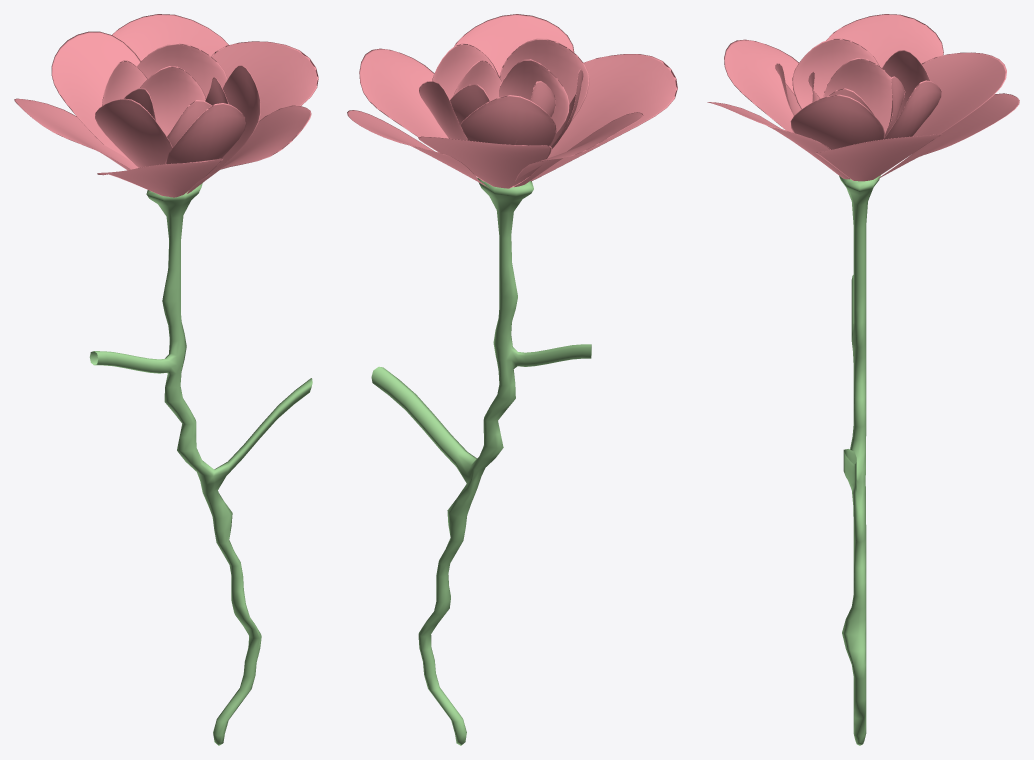
The model's file is rose.obj.
3 renders of one model, left to right at view 1: azimuth 30°, elevation 25°; view 2: azimuth 150°, elevation 25°; view 3: azimuth 270°, elevation 25°, orthographic. The views are drawn at different scales.
Visible parts, largest first — view 1: Plane001, Cylinder001; view 2: Plane001, Cylinder001; view 3: Plane001, Cylinder001.
Part boxes in pixels (x1=…): Plane001: x1=14, y1=14, x2=318, y2=197; Cylinder001: x1=89, y1=183, x2=312, y2=745; Plane001: x1=347, y1=14, x2=677, y2=188; Cylinder001: x1=371, y1=178, x2=591, y2=745; Plane001: x1=707, y1=14, x2=1019, y2=181; Cylinder001: x1=839, y1=175, x2=880, y2=745.
Bounding box in the file's own units: 239 × 575 × 248.
